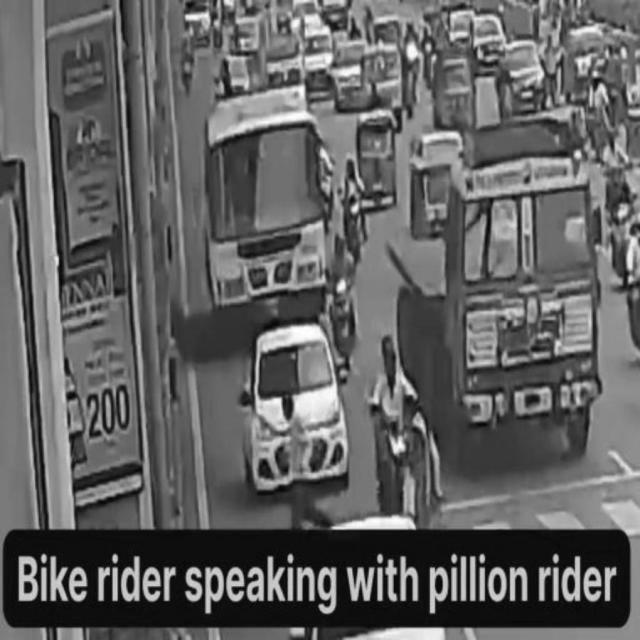accident: (376, 335, 437, 521)
person: (278, 389, 326, 541)
vehicle: (447, 156, 593, 450), (204, 114, 328, 315), (248, 338, 349, 498), (359, 107, 400, 209), (333, 232, 360, 376), (338, 155, 368, 256)
